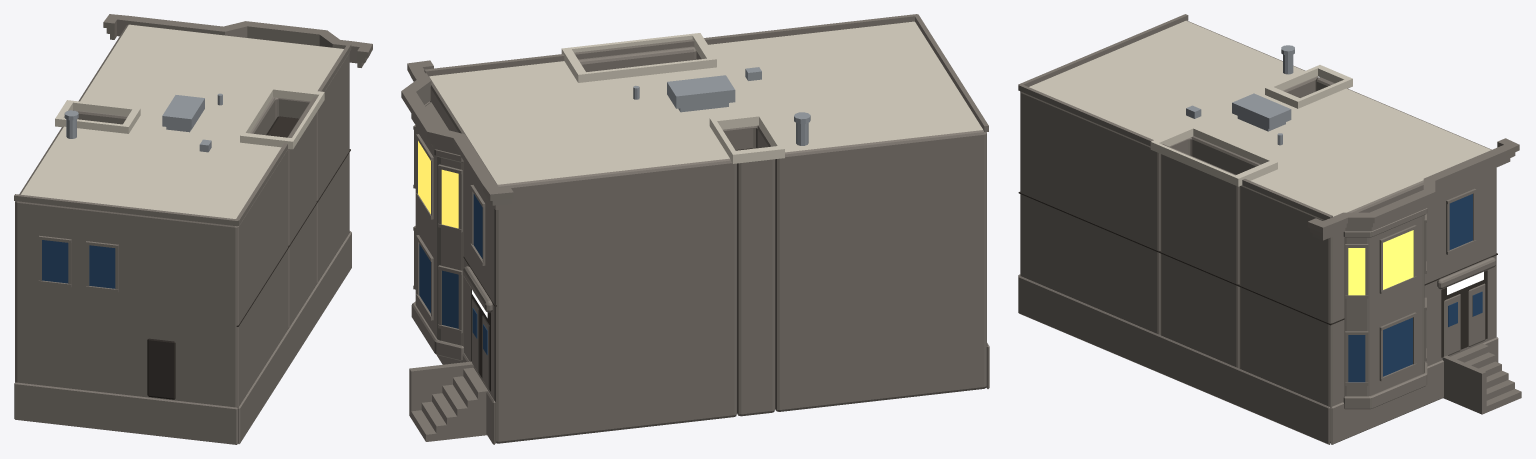
The model's file is 254-ritch.glb.
3 renders of one model, left to right at view 1: azimuth 30°, elevation 25°; view 2: azimuth 150°, elevation 25°; view 3: azimuth 270°, elevation 25°, orthographic. The views are drawn at different scales.
Visible parts, largest first — view 1: body, grp_Toy_slate, grp_Toy_stone, grp_Toy_ink, grp_Toy_glass, grp_Toy_steel; view 2: body, grp_Toy_slate, grp_Toy_stone, grp_Toy_steel, grp_Toy_glass, grp_Toy_gold_Glow, grp_Toy_ink; view 3: body, grp_Toy_slate, grp_Toy_stone, grp_Toy_glass, grp_Toy_gold_Glow, grp_Toy_steel, grp_Toy_ink.
Part boxes in pixels (box(x1,y1,x2,y2)): body: box(15, 24, 349, 407); grp_Toy_slate: box(14, 14, 372, 444); grp_Toy_stone: box(55, 86, 324, 149); grp_Toy_ink: box(147, 116, 350, 399); grp_Toy_glass: box(42, 240, 115, 288); grp_Toy_steel: box(64, 93, 222, 152); body: box(429, 21, 986, 443); grp_Toy_slate: box(401, 14, 989, 444); grp_Toy_stone: box(561, 33, 784, 163); grp_Toy_steel: box(633, 67, 810, 145); grp_Toy_glass: box(419, 194, 487, 354); grp_Toy_gold_Glow: box(418, 141, 458, 228); grp_Toy_ink: box(463, 148, 752, 391); body: box(1020, 20, 1496, 443); grp_Toy_slate: box(1018, 14, 1521, 444); grp_Toy_stone: box(1150, 65, 1352, 186); grp_Toy_glass: box(1348, 194, 1482, 382); grp_Toy_gold_Glow: box(1348, 230, 1413, 295); grp_Toy_steel: box(1186, 45, 1294, 145); grp_Toy_ink: box(1018, 192, 1497, 357).
Size of the model in its own units: 16.14 by 8.8 by 16.2.
